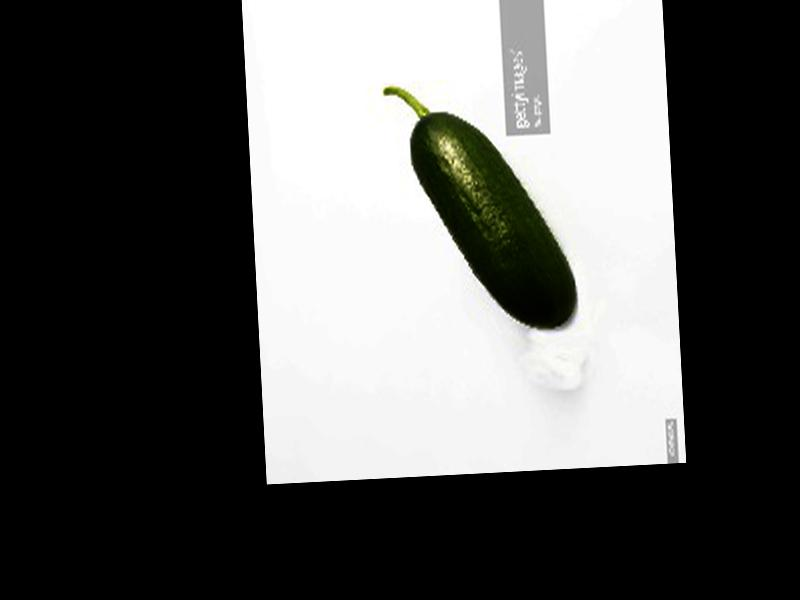Cucumber: (385, 73, 579, 334)
